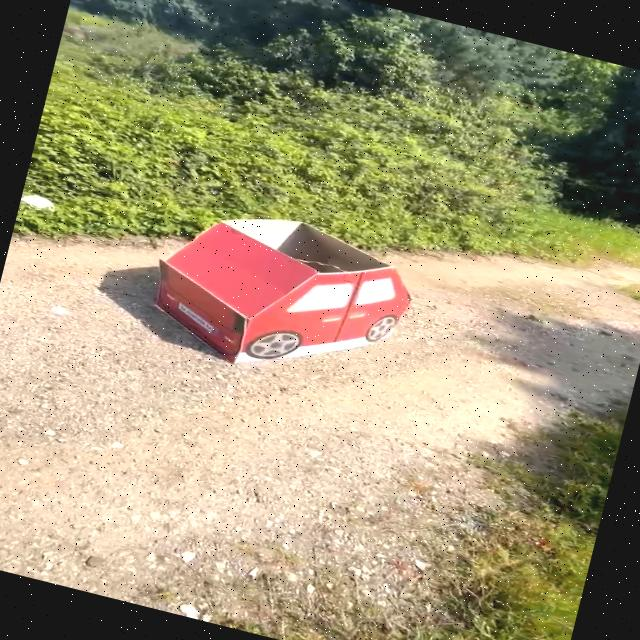red_car: (116, 171, 454, 419)
